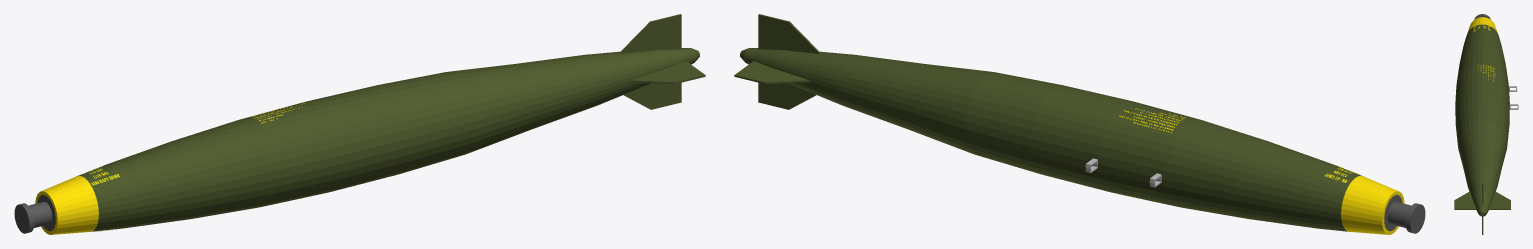
3 views of the same model, side by side, from view 1: azimuth 30°, elevation 25°; view 2: azimuth 150°, elevation 25°; view 3: azimuth 270°, elevation 25° (orthographic). The views are drawn at different scales.
Parts seen in each view (by area): view 1: MK81 Body, Fin Left, Fin Right, Fin Down; view 2: MK81 Body, Fin Left, Fin Right, Fin Up, MK81 Detail Label L; view 3: MK81 Body, Fin Down, Fin Up, MK81 Detail Label L, Fin Left.
Boxes of the visible parts, x1,y1,x2,y2 form: MK81 Body: (14,48,699,234); Fin Left: (619,14,681,53); Fin Right: (623,82,681,109); Fin Down: (630,61,705,84); MK81 Body: (740,48,1425,234); Fin Left: (758,14,820,53); Fin Right: (758,82,816,109); Fin Up: (734,61,809,84); MK81 Detail Label L: (1119,108,1185,133); MK81 Body: (1455,14,1518,216); Fin Down: (1454,191,1476,209); Fin Up: (1488,191,1510,209); MK81 Detail Label L: (1478,65,1495,81); Fin Left: (1482,175,1483,203).
Size of the model in its own units: 28.07 by 24.69 by 199.
Materials: 6 (2 with a texture image).
